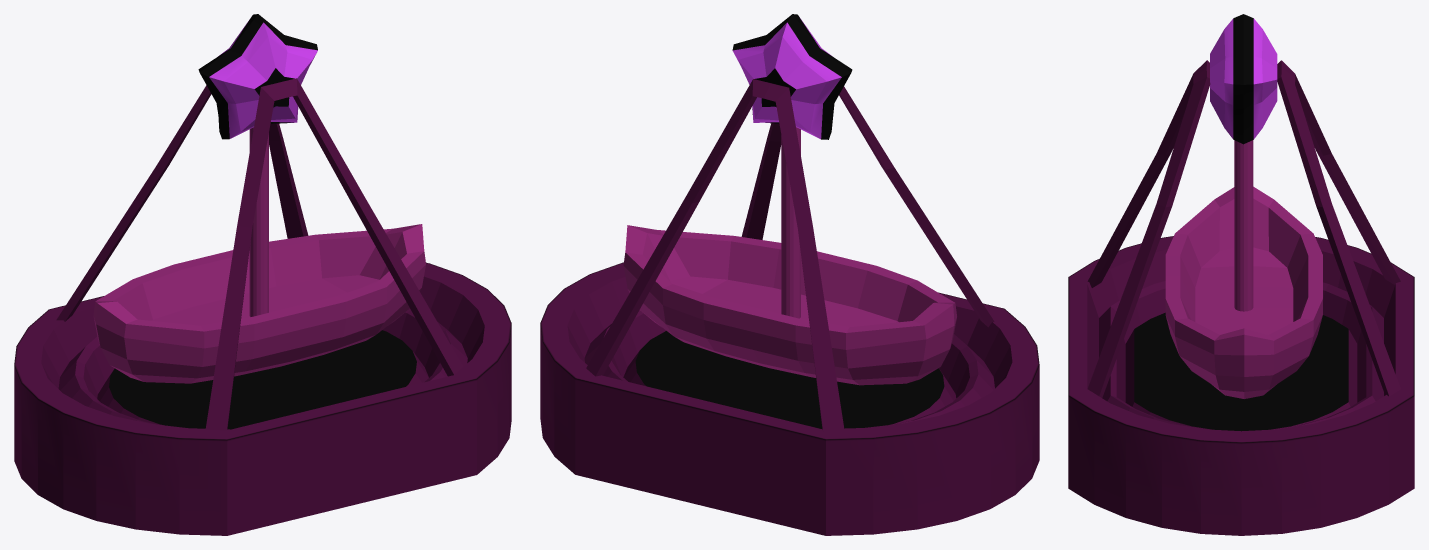
The model's file is Boat_deco.fbx.
3 renders of one model, left to right at view 1: azimuth 30°, elevation 25°; view 2: azimuth 150°, elevation 25°; view 3: azimuth 270°, elevation 25°, orthographic. The views are drawn at different scales.
Visible parts, largest first — view 1: Cylinder.012Shape; view 2: Cylinder.012Shape; view 3: Cylinder.012Shape.
Part boxes in pixels (x1=…): Cylinder.012Shape: x1=14, y1=14, x2=511, y2=535; Cylinder.012Shape: x1=540, y1=14, x2=1039, y2=535; Cylinder.012Shape: x1=1068, y1=14, x2=1414, y2=535.
Bounding box in the file's own units: 404 × 366 × 277.
